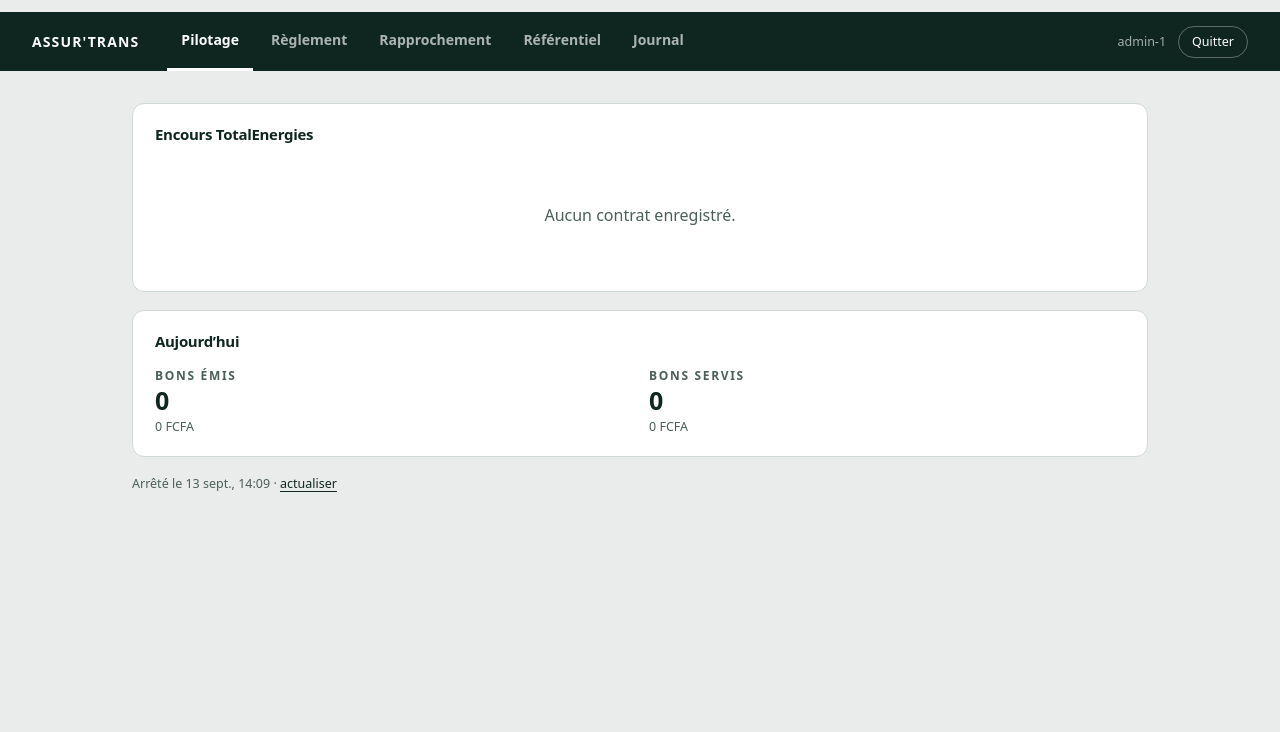
Scenario: un relevé vide › explique qu’aucun accès automatique n’existe
Click the button "Rapprochement" at coordinates (435, 42), box 365,12 -> 505,71
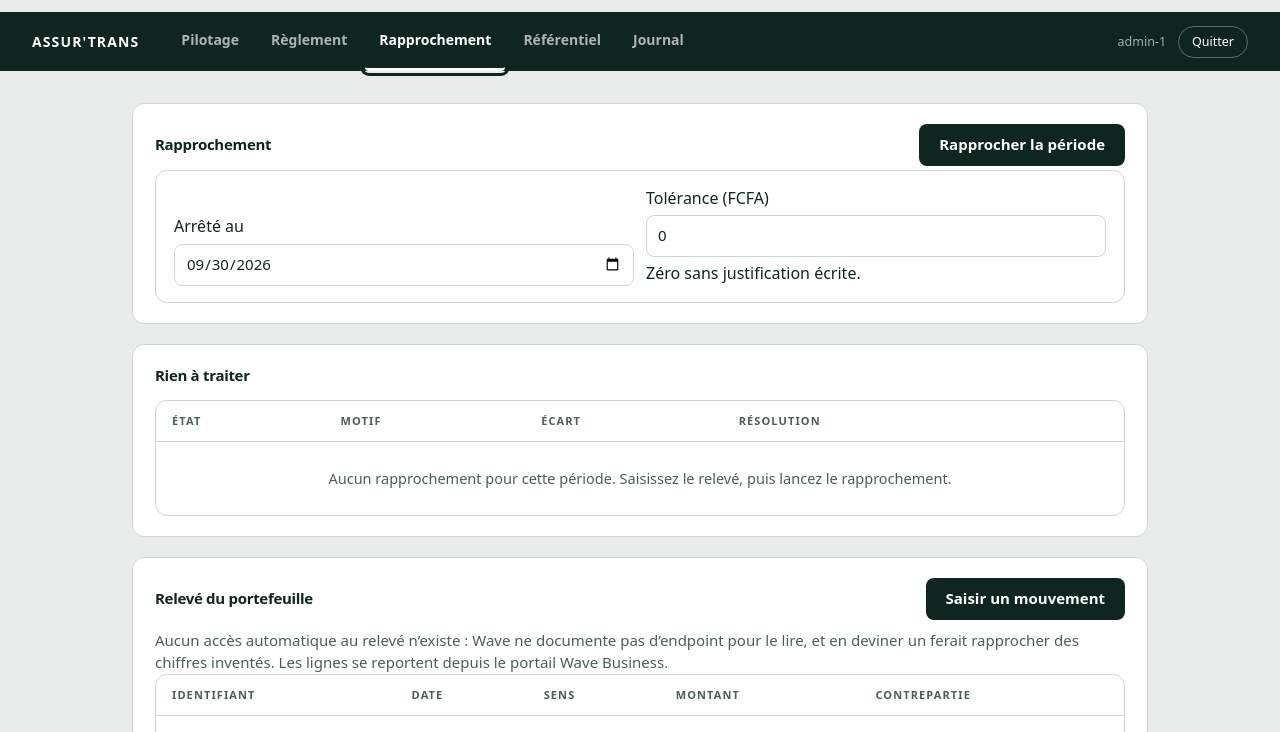
Expected: the text "Wave ne documente pas d’endpoint" is shown, 155,630 -> 1079,672
